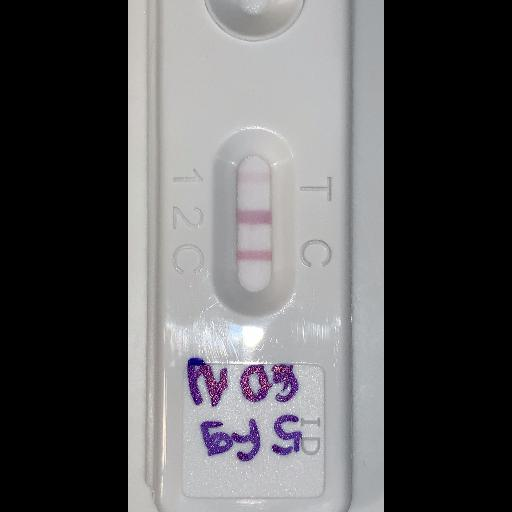Pos: (143, 0, 355, 511)
